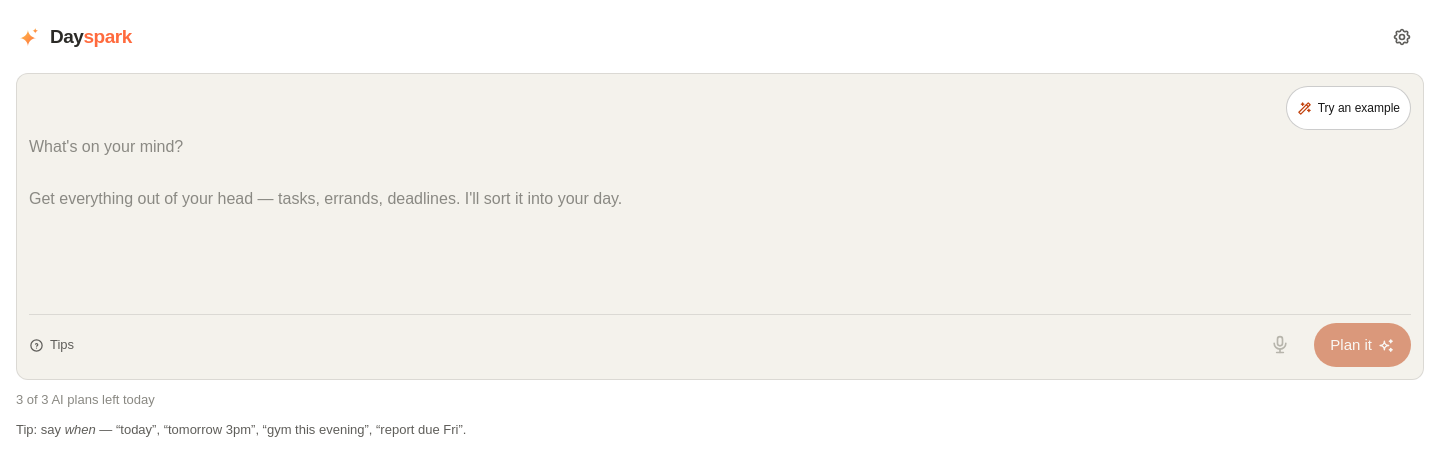
it: CaptureFlow › shows an honest notice in Review when the server fell back to the basic parser
The width and height of the screenshot is (1440, 454).
Step 1. Type "Gym this evening." into the text box with placeholder "What's on your mind" → (720, 222), box x1=29 y1=134 x2=1411 y2=310
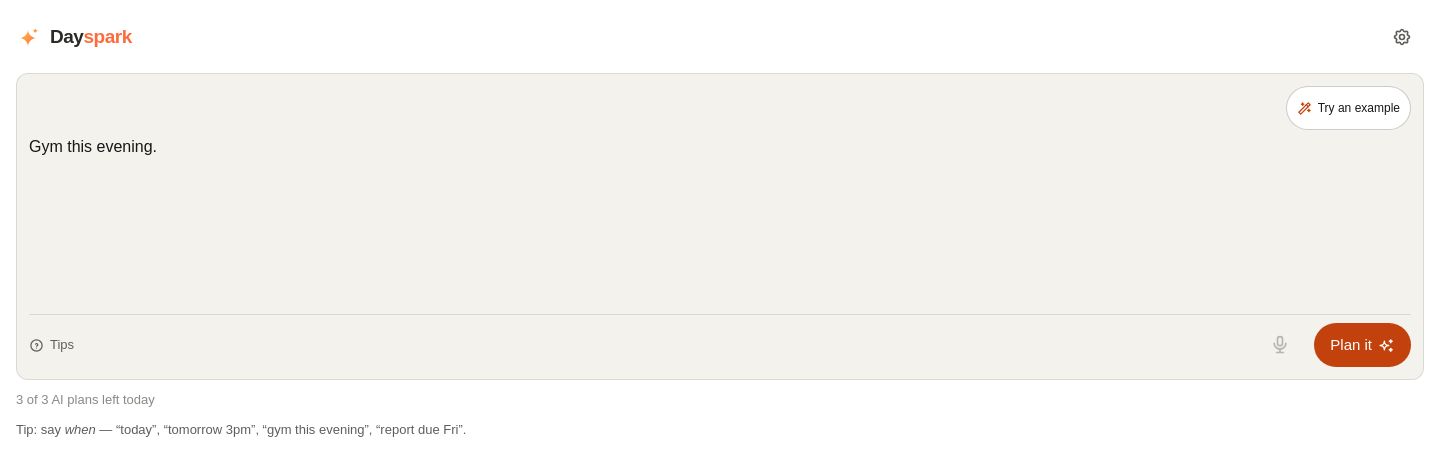
Step 2. Click the button "Plan it" → (1363, 345), box x1=1314 y1=323 x2=1411 y2=367
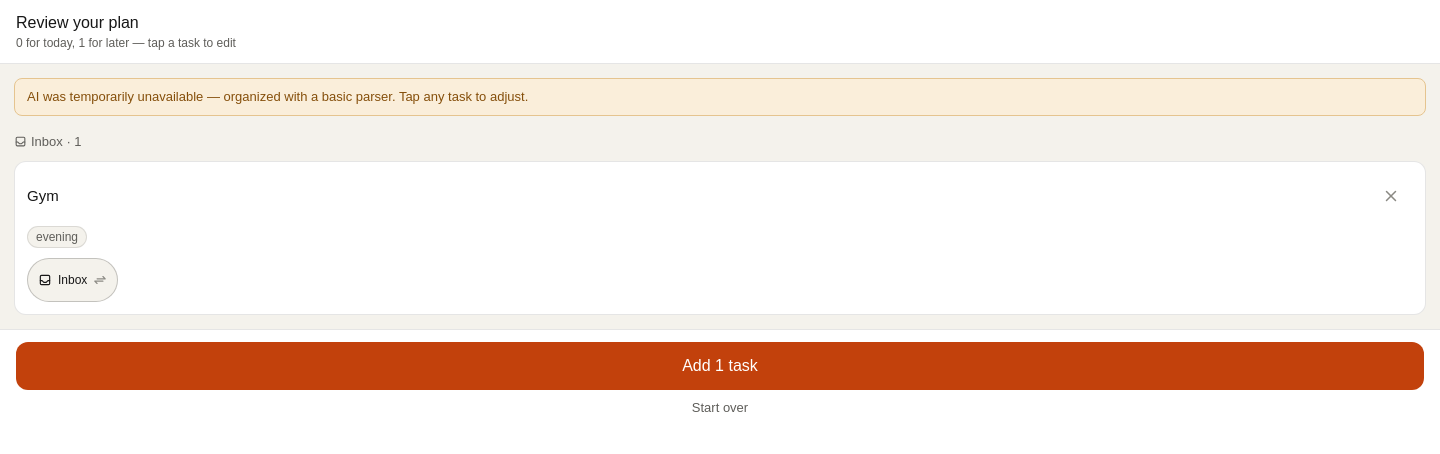
Check: the button "Add 1 task" is shown, box x1=16 y1=342 x2=1424 y2=390
Check: the text "temporarily unavailable" is shown, box x1=27 y1=89 x2=528 y2=104
